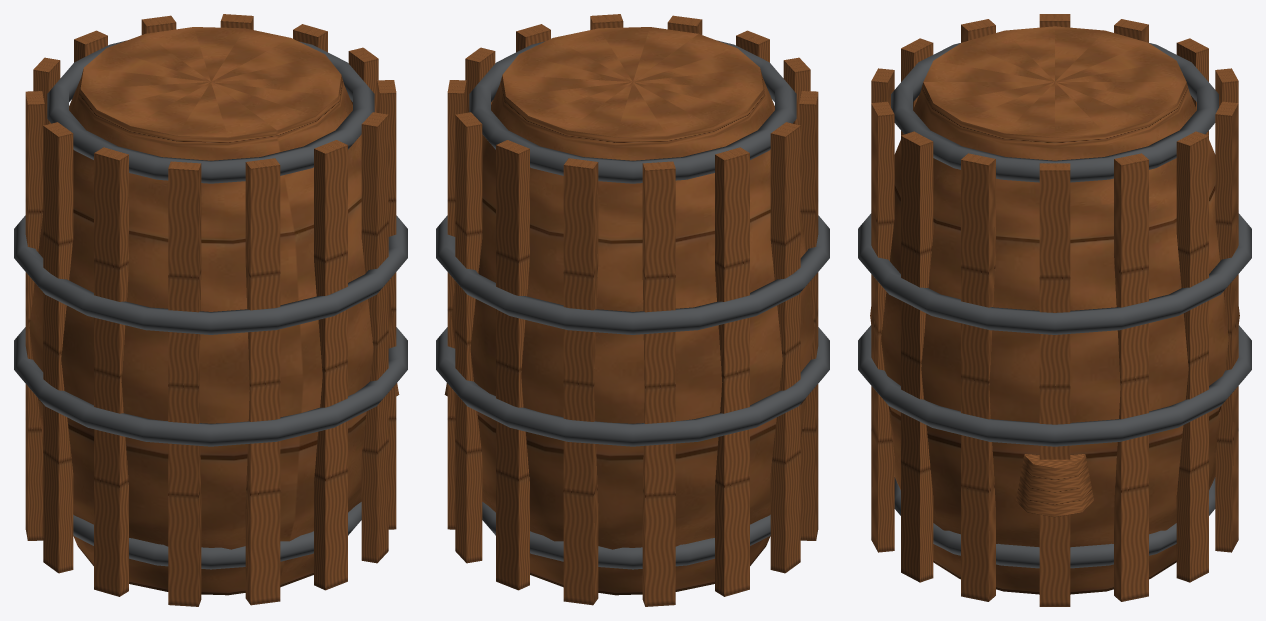
Rendered from barrel.glb.
3 views of the same model, side by side, from view 1: azimuth 30°, elevation 25°; view 2: azimuth 150°, elevation 25°; view 3: azimuth 270°, elevation 25° (orthographic).
Visible parts, largest first — view 1: whiskey-barrel; view 2: whiskey-barrel; view 3: whiskey-barrel.
Boxes of the visible parts, box(x1,y1,x2,y2) form: whiskey-barrel: box(14, 14, 407, 606); whiskey-barrel: box(436, 14, 829, 606); whiskey-barrel: box(858, 14, 1251, 606).
Bounding box in the file's own units: 0.737 × 0.9 × 0.7032.
Materials: 2 (1 with a texture image).
